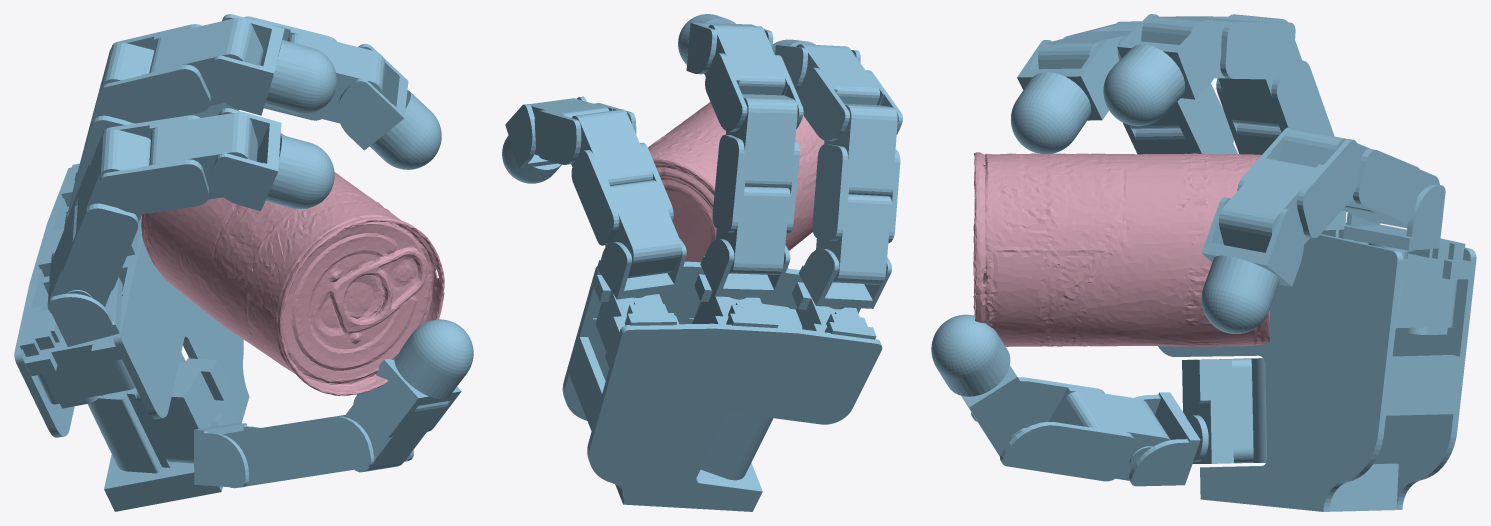
3 views of the same model, side by side, from view 1: azimuth 30°, elevation 25°; view 2: azimuth 150°, elevation 25°; view 3: azimuth 270°, elevation 25° (orthographic). The views are drawn at different scales.
Visible parts, largest first — view 1: world, tomato_soup_can.stl; view 2: world, tomato_soup_can.stl; view 3: world, tomato_soup_can.stl.
Boxes of the visible parts, box(x1,y1,x2,y2) form: world: box(14, 14, 473, 511); tomato_soup_can.stl: box(141, 133, 444, 395); world: box(502, 14, 902, 511); tomato_soup_can.stl: box(648, 101, 824, 262); world: box(931, 14, 1476, 511); tomato_soup_can.stl: box(973, 152, 1269, 346).
Size of the model in its own units: 0.1735 by 0.1963 by 0.1871.
